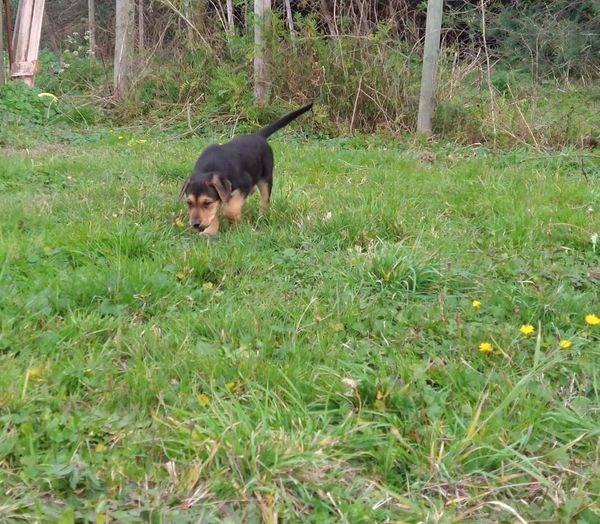dog: (163, 97, 327, 247)
